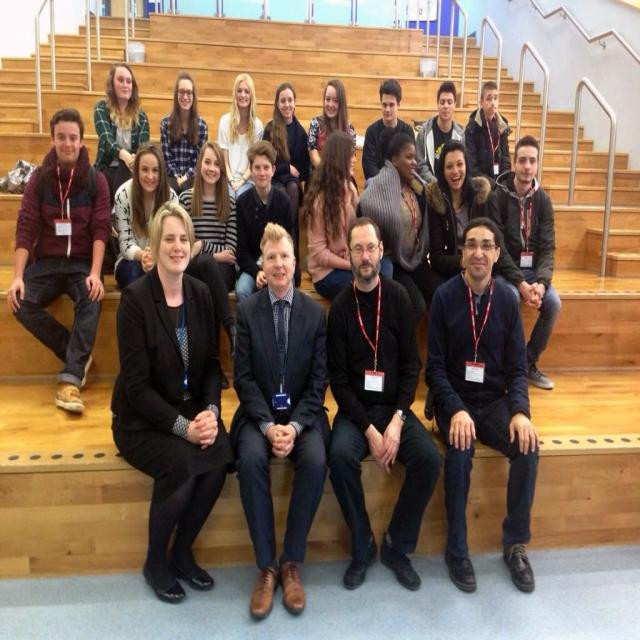body: (109, 197, 238, 605), (320, 214, 444, 592), (421, 214, 541, 596), (228, 217, 334, 624), (4, 105, 113, 415), (487, 133, 562, 391), (354, 131, 450, 331), (298, 129, 395, 306), (179, 139, 240, 362), (92, 60, 152, 259), (233, 137, 303, 305), (423, 138, 493, 282), (113, 140, 179, 291), (261, 81, 311, 275), (463, 81, 513, 222), (360, 75, 418, 191), (216, 72, 265, 200), (160, 71, 210, 195), (415, 79, 467, 184), (306, 78, 359, 174)
